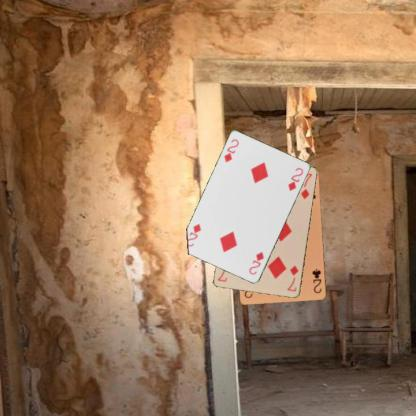2c: (310, 266, 323, 295)
2d: (246, 249, 265, 276), (222, 136, 240, 164)
7d: (285, 263, 300, 293)
